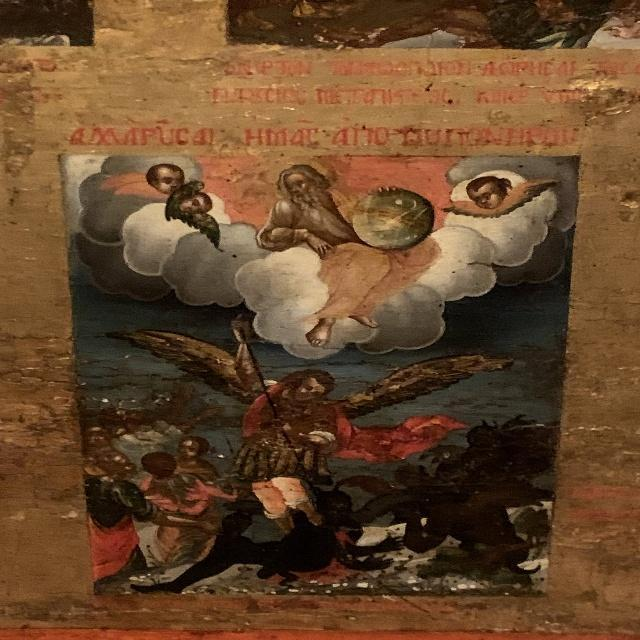angel: (111, 313, 506, 542), (443, 168, 564, 220), (166, 166, 229, 247)
cloud: (169, 227, 260, 306)
father: (252, 157, 443, 364)
orb: (352, 186, 434, 249)
spear: (235, 322, 348, 553)
wing: (106, 323, 260, 404), (344, 349, 517, 418)
